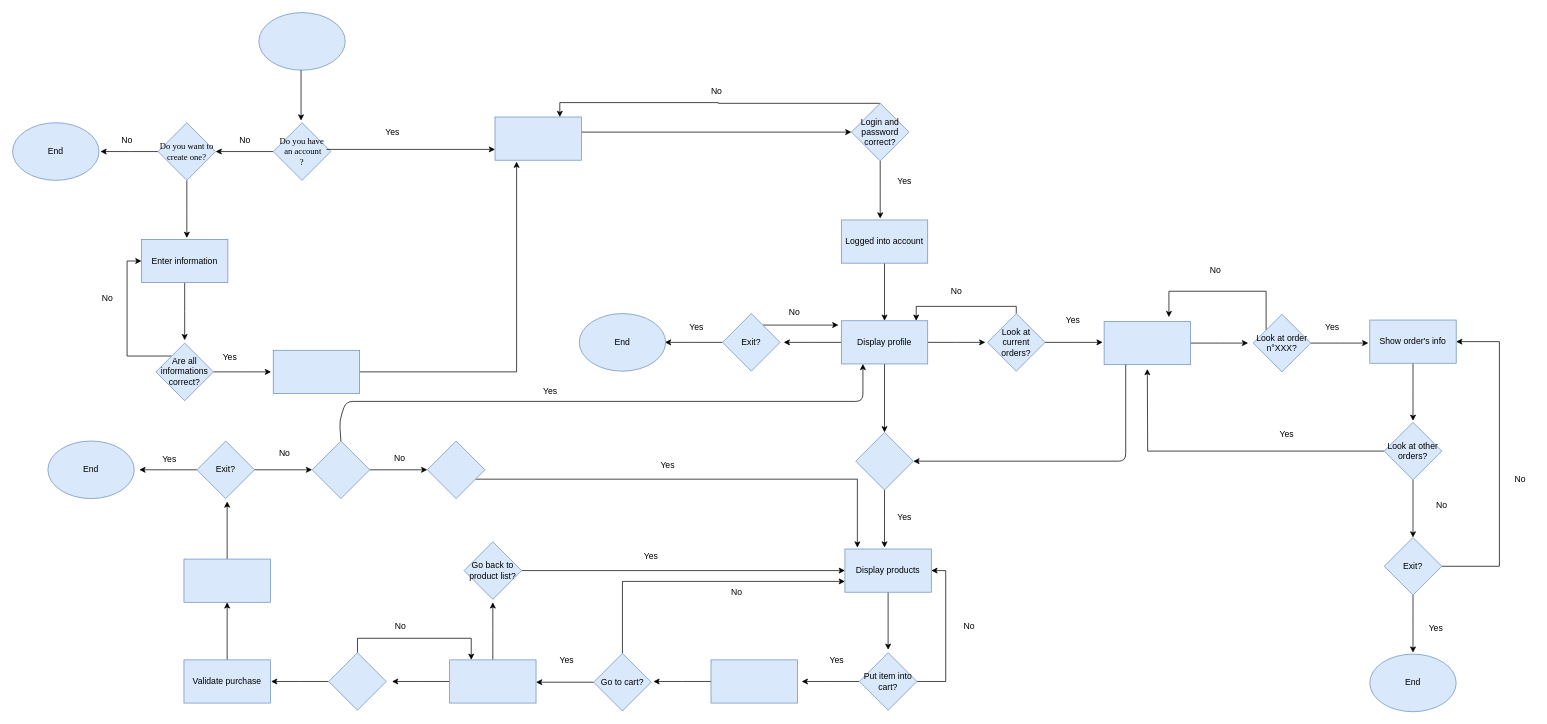
This 1547x724 diagram has some shape labels left out. Each missing label, with the box of its shape:
Display cart: (449, 659, 536, 703)
Display list order: (1103, 321, 1191, 365)
Enter login and password: (494, 116, 581, 160)
Finalize shopping: (328, 652, 386, 710)
Go back to profile?: (311, 440, 370, 499)
Item put in cart: (710, 659, 797, 703)
Make new orders?: (855, 432, 913, 490)
Purchase done: (183, 558, 270, 602)
Shop more?: (427, 440, 485, 499)
Start: (258, 12, 345, 70)
Submit: (273, 350, 360, 393)
